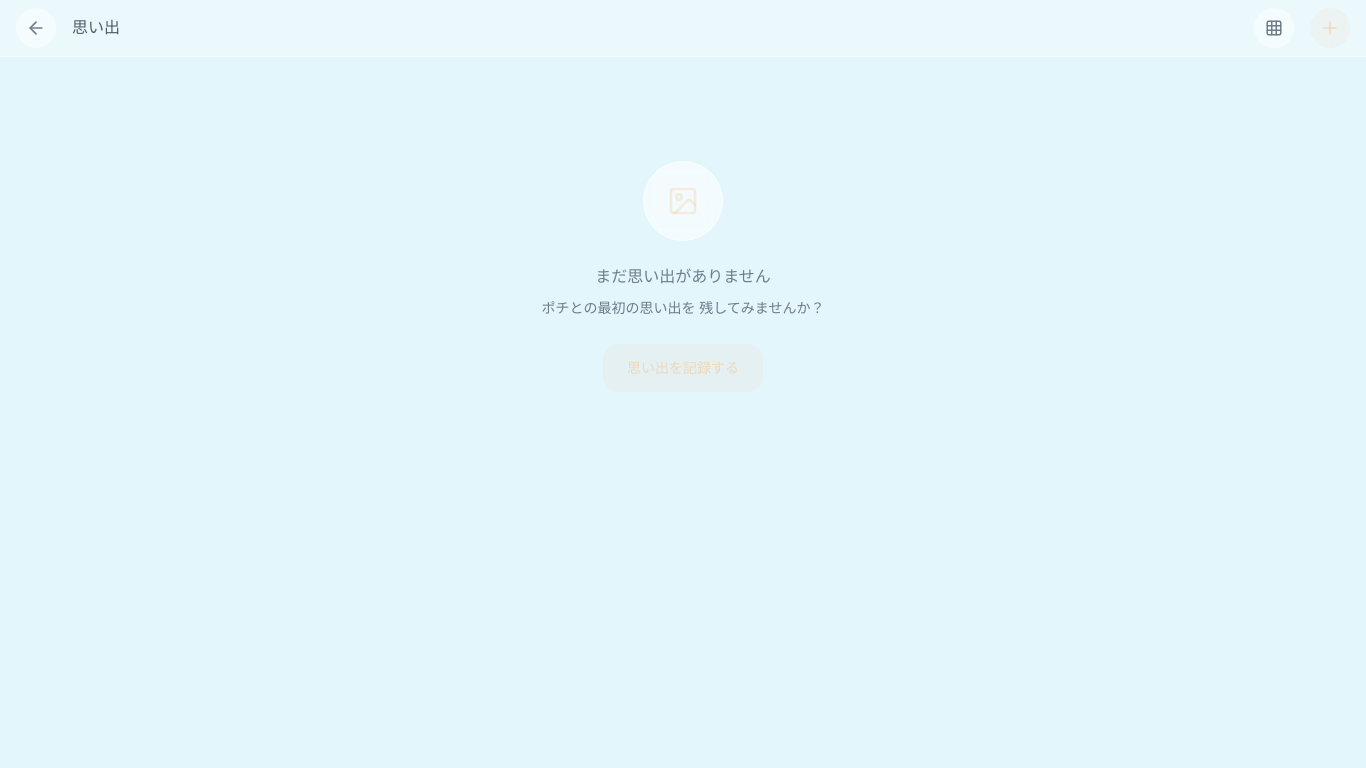
TimelineScreen — 保存完了フィードバック › 保存後にAIリアクションモーダルが表示される
Click the button "思い出を記録する".
click(683, 368)  # box top-left (603, 344), bottom-right (763, 392)
(page scrolled)
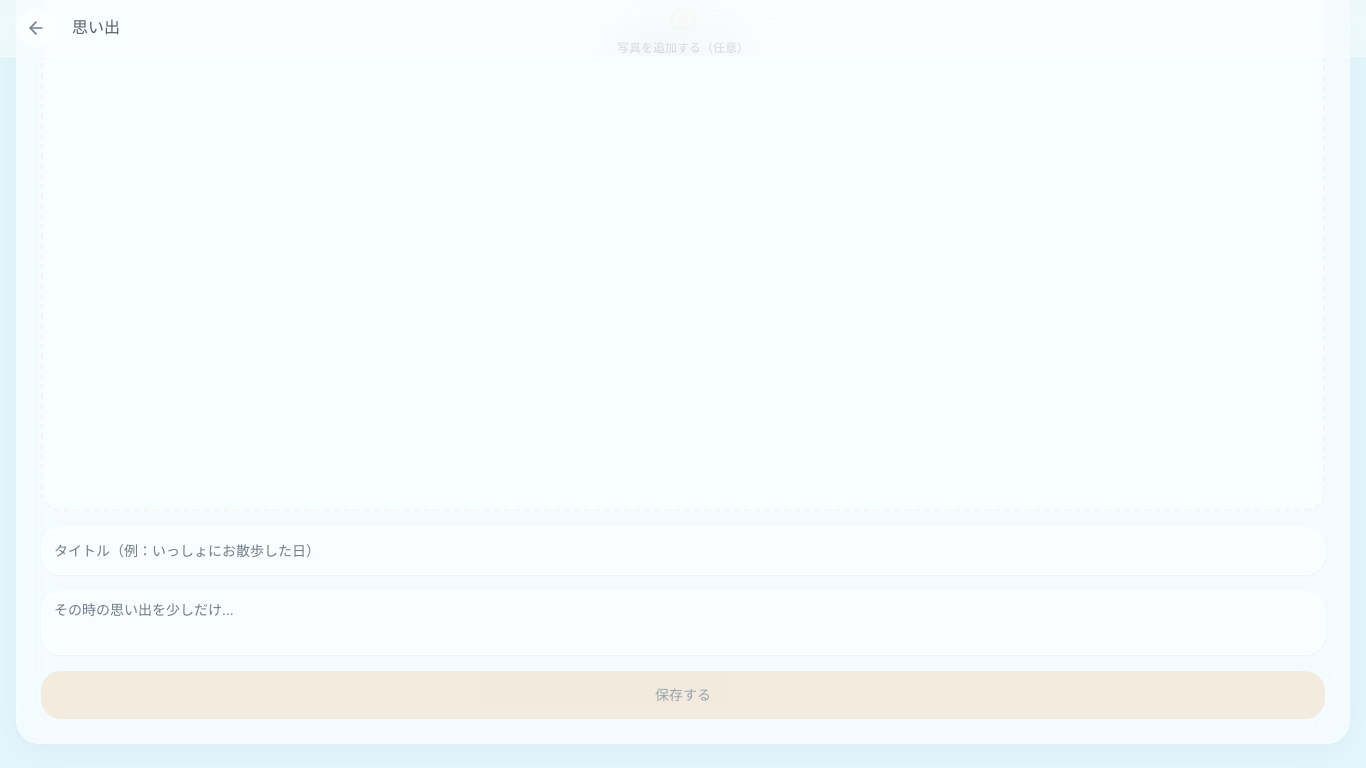
Type "散歩した日" into the field with placeholder "タイトル（例：いっしょにお散歩した日）".
click(683, 551); type("散歩した日")  # box top-left (41, 527), bottom-right (1325, 575)
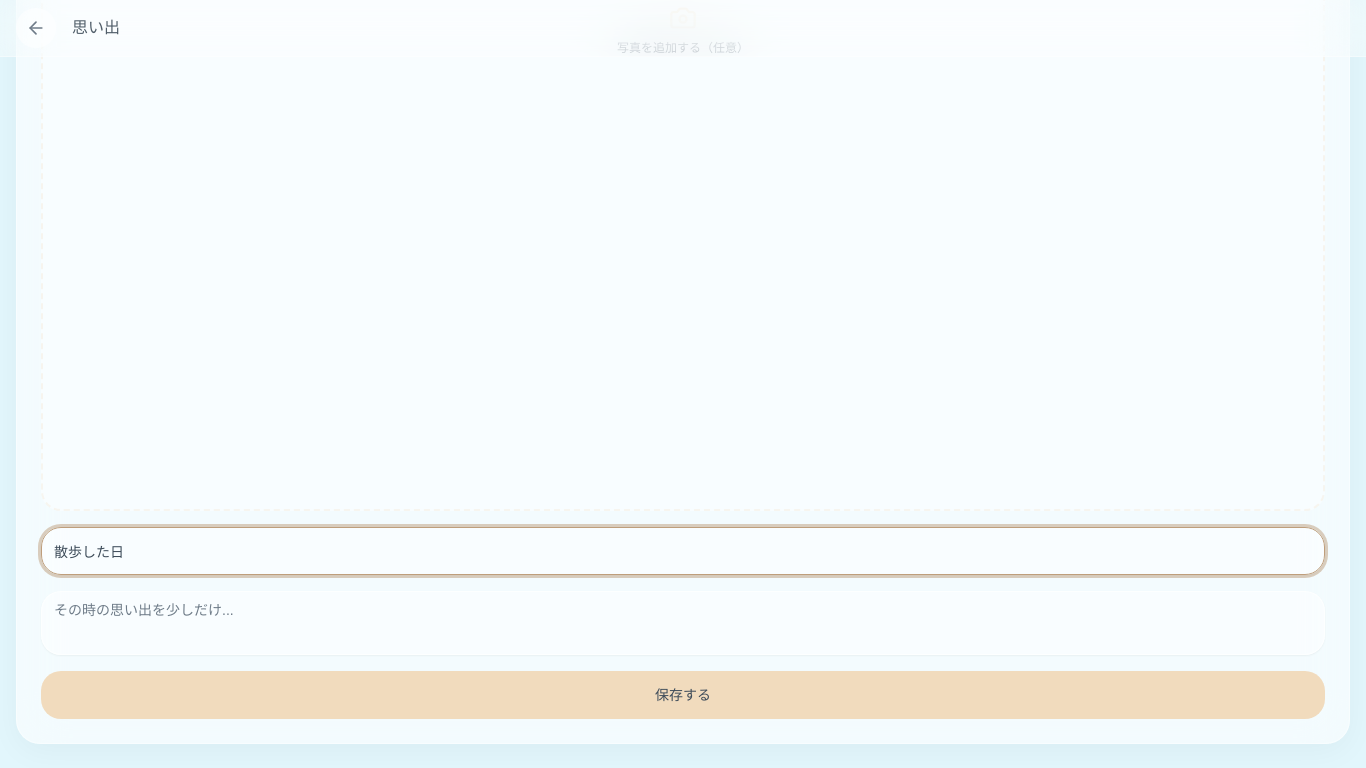
Click the button "保存する".
click(683, 695)  # box top-left (41, 671), bottom-right (1325, 719)
(page scrolled)
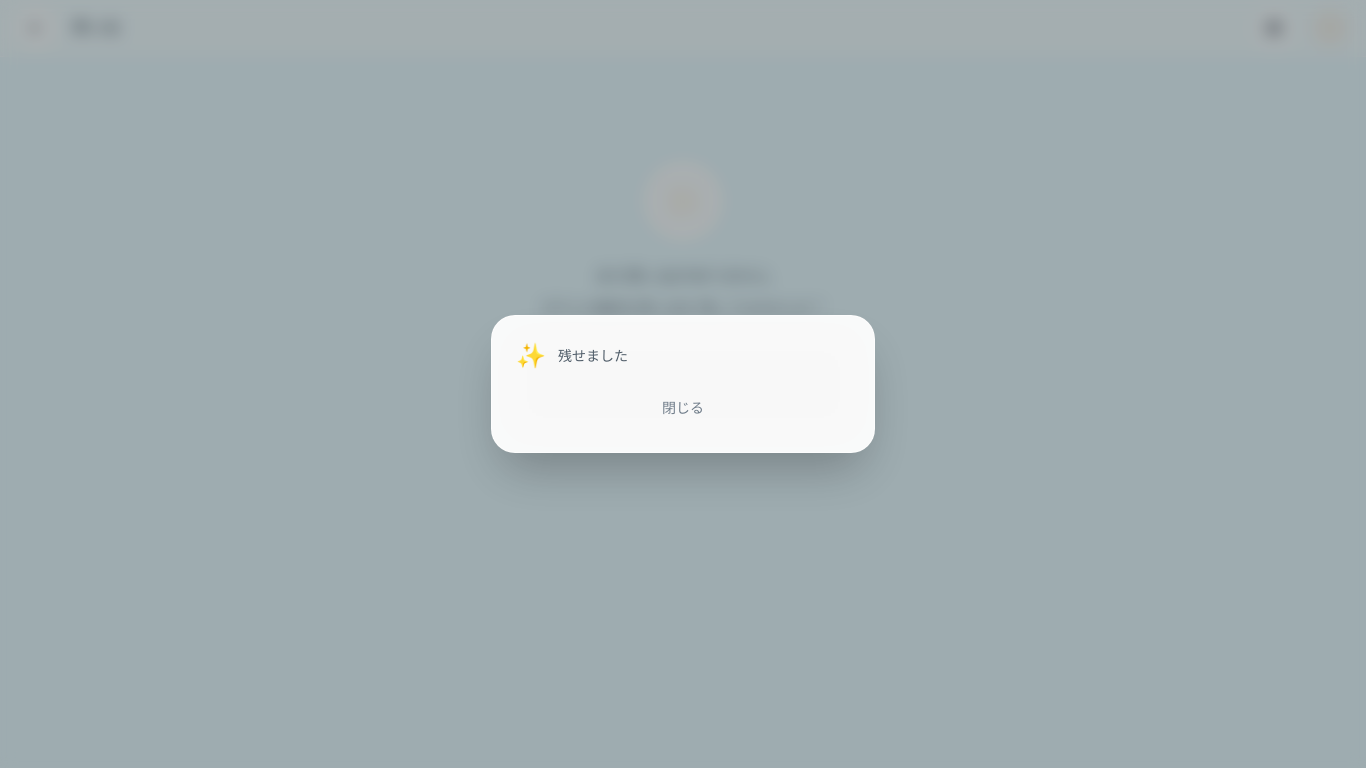
Check: the text "残せました" is shown, box top-left (558, 346), bottom-right (628, 366)
